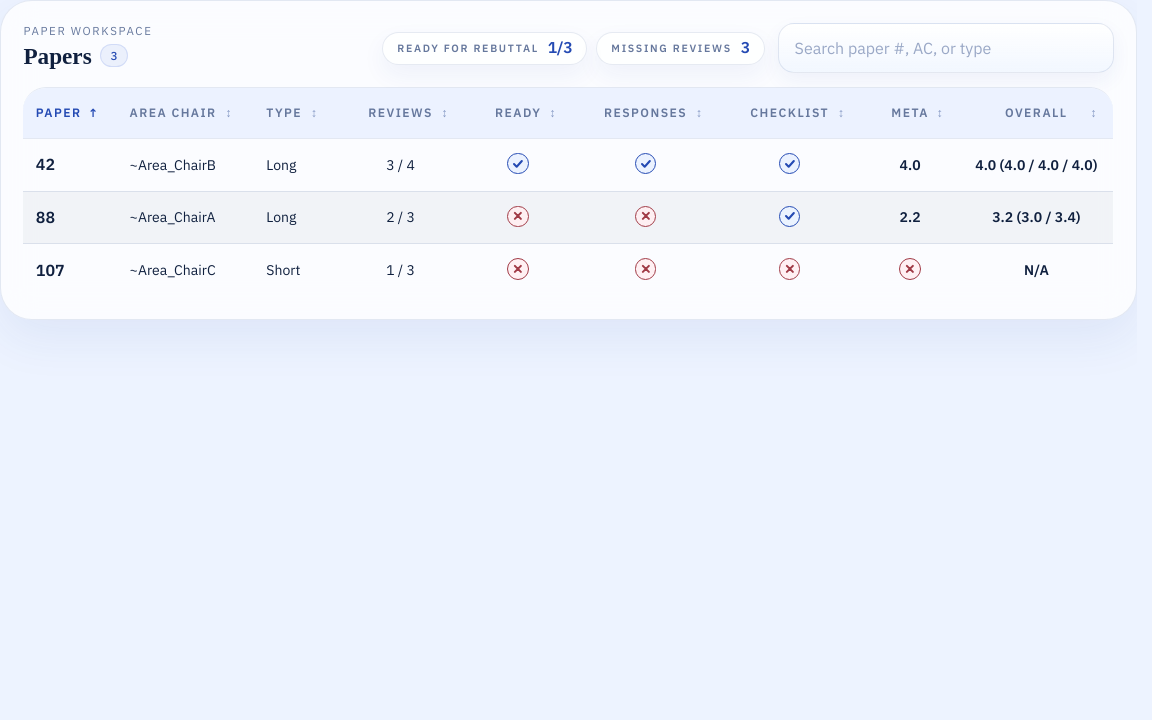
Test: PapersPanel › shows the submitted meta-review text and score in the expanded paper detail
Click the button "42".
click(70, 165)  # box 36,152 -> 104,178
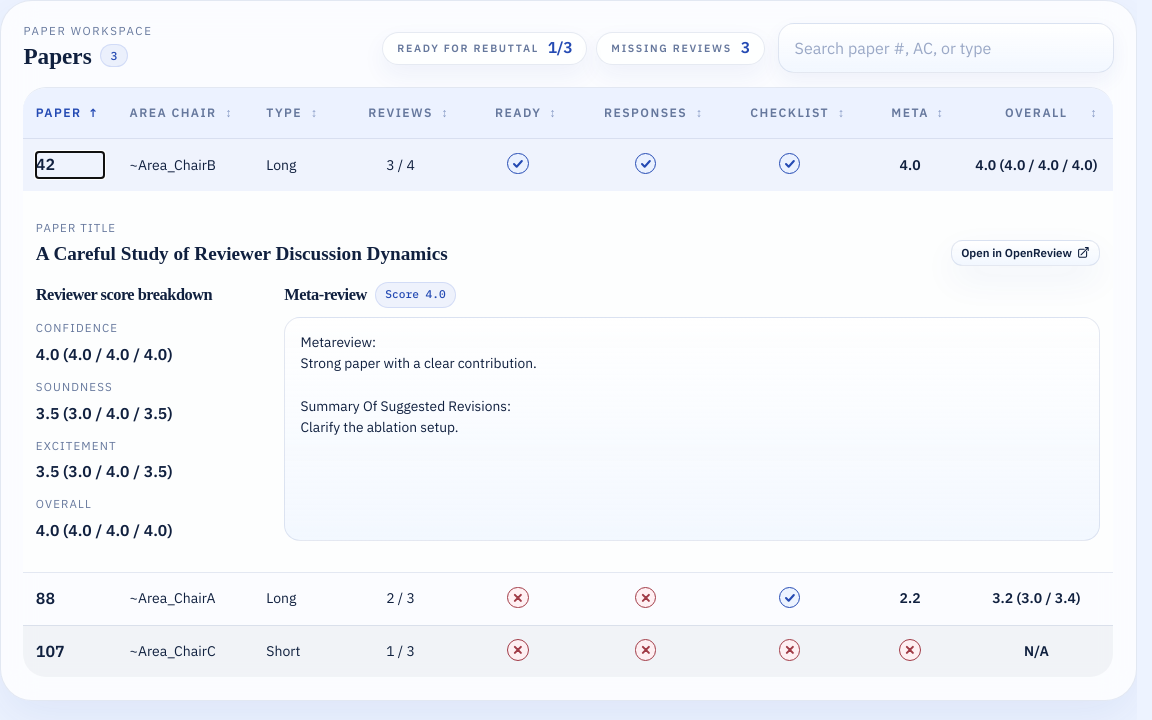
Check: the field named "Meta-review for paper 42" shows "Metareview: Strong paper with a clear contribution.", box 301,333 -> 537,437
Check: the field named "Meta-review for paper 42" shows "Summary Of Suggested Revisions: Clarify the ablation setup.", box 301,333 -> 537,437
Check: the text named "Meta-review score 4.0" reads "Score 4.0", box 376,282 -> 456,308
